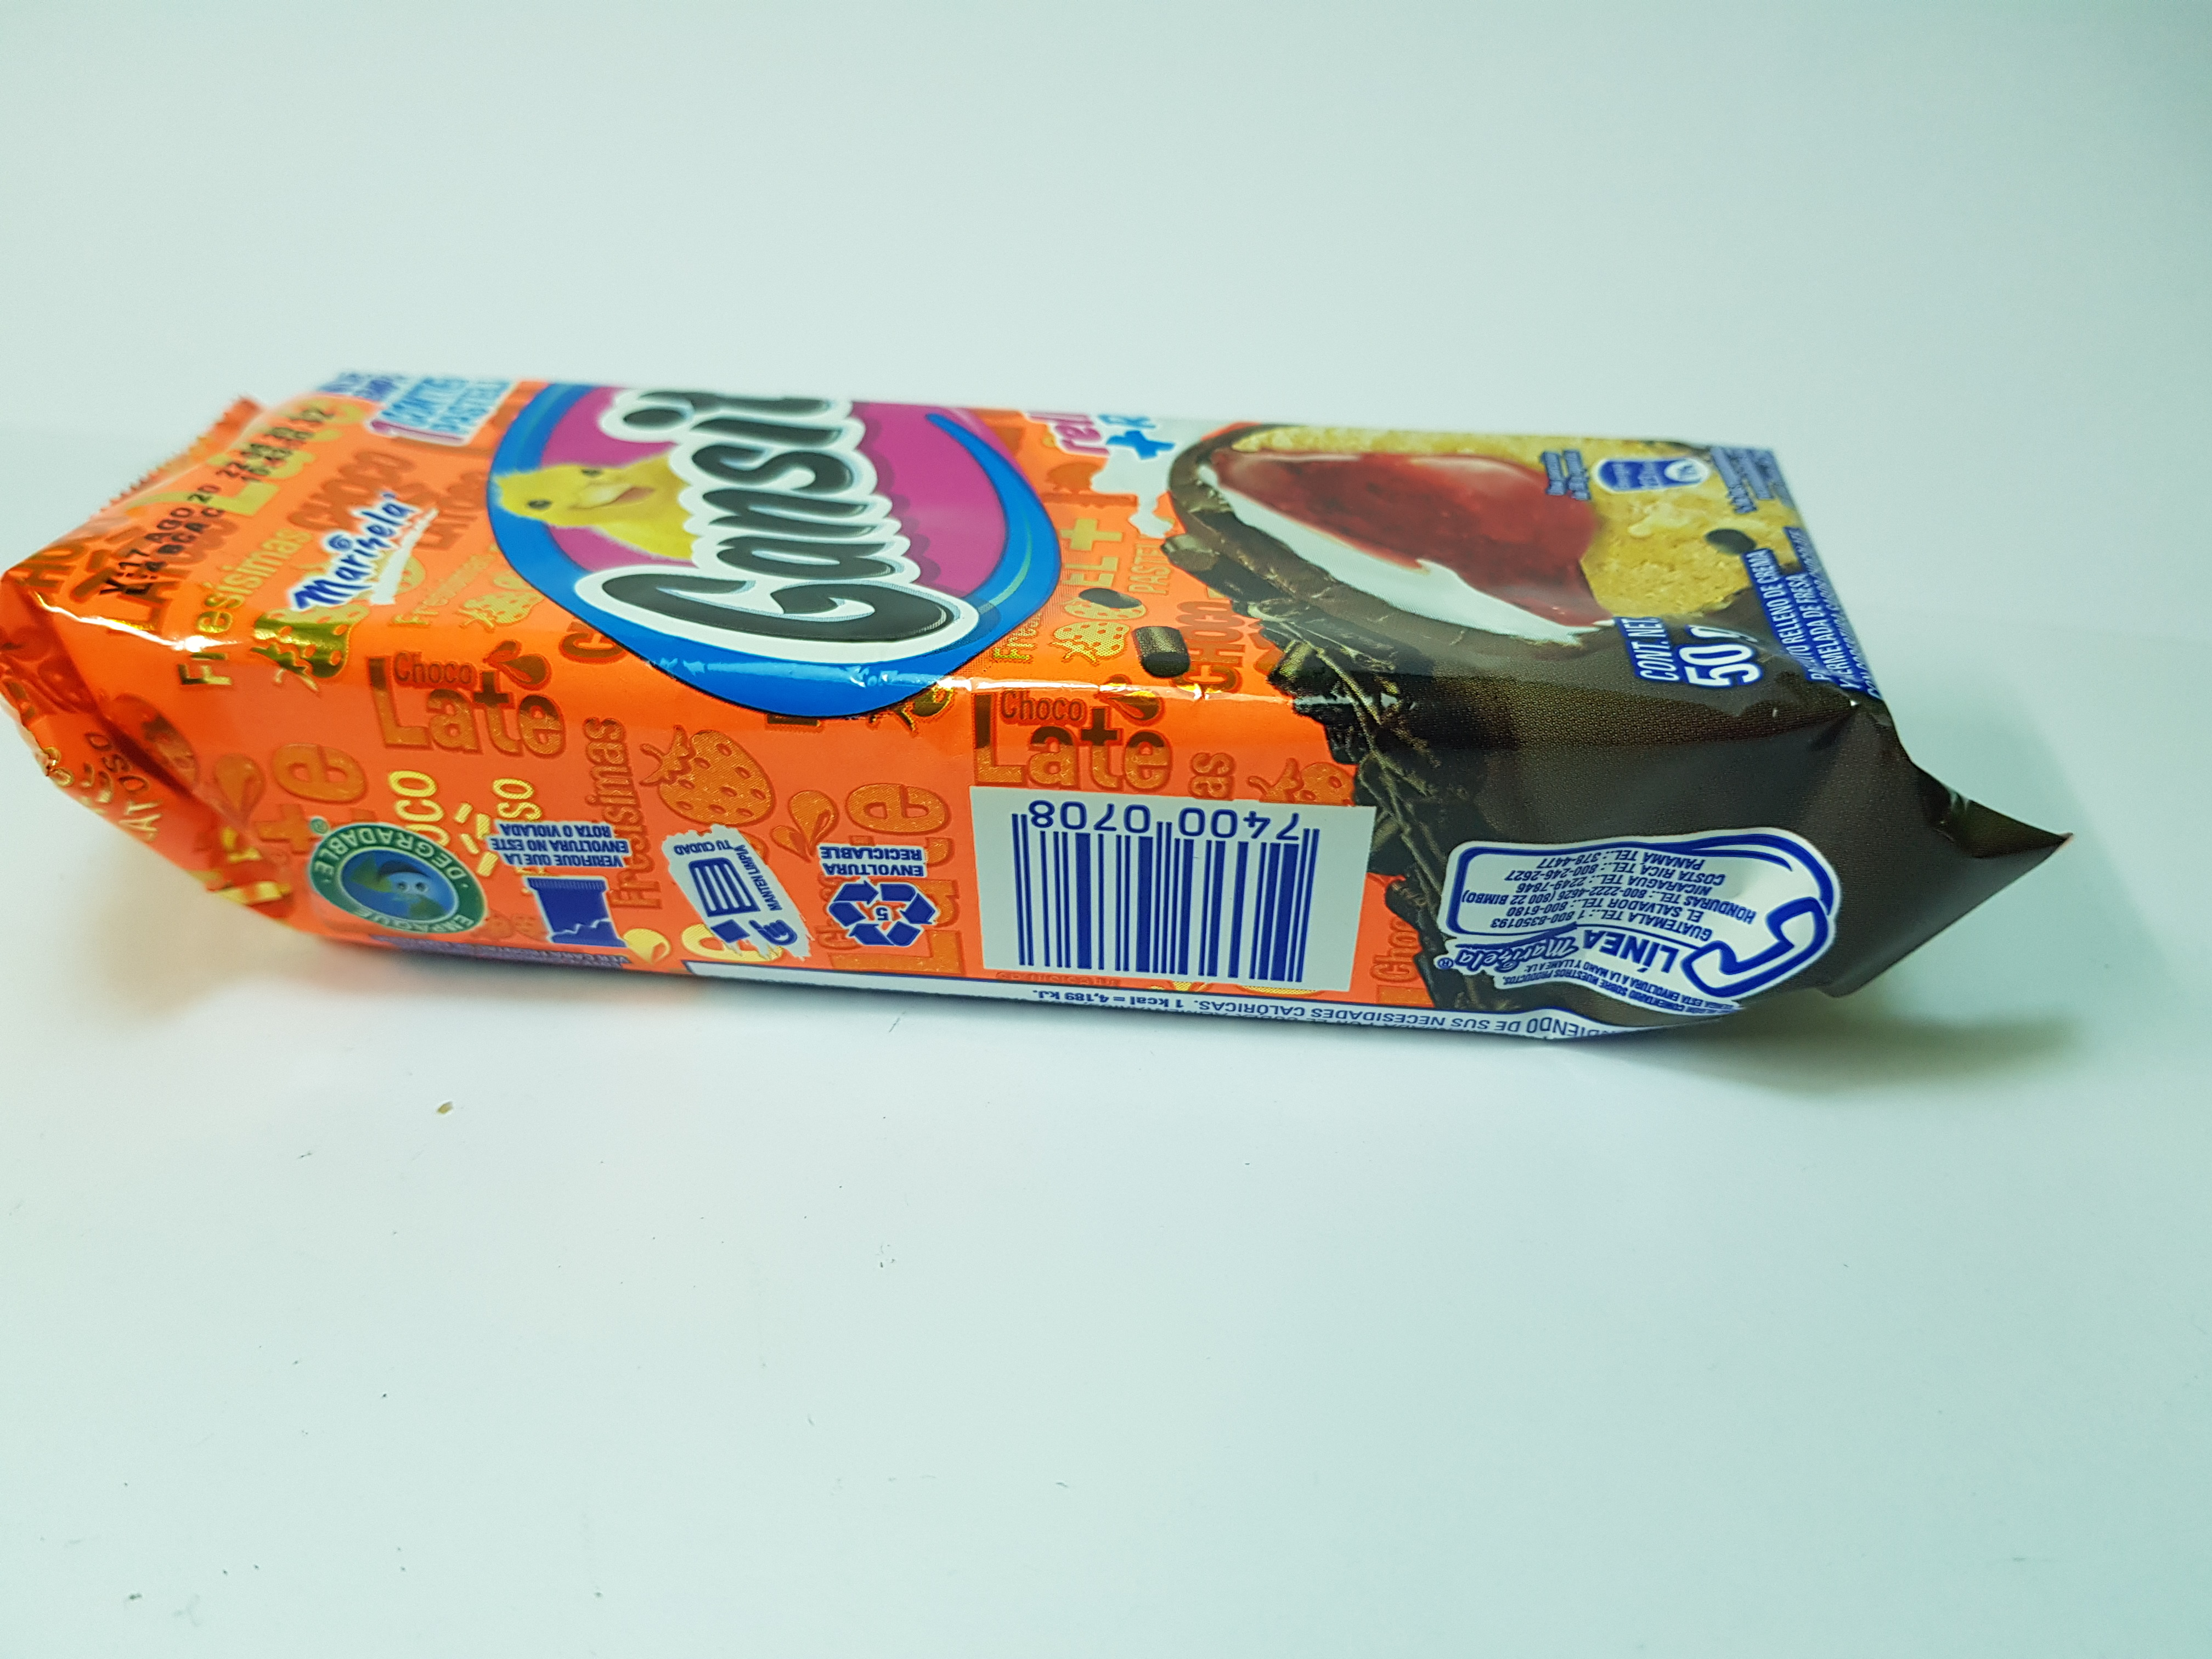gansito: (2, 338, 2095, 1103)
